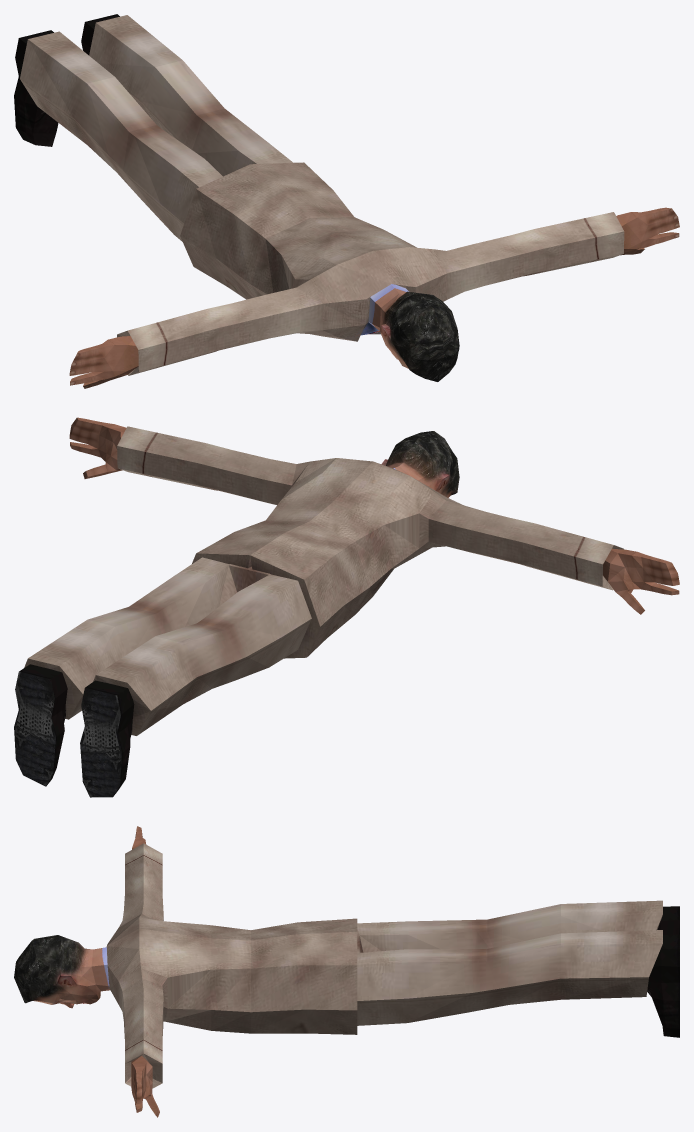
The model's file is civilianmaleC_wtf.obj.
The picture shows the model from 3 angles, top to bottom: view 1: azimuth 30°, elevation 25°; view 2: azimuth 150°, elevation 25°; view 3: azimuth 270°, elevation 25°; orthographic projection. The views are drawn at different scales.
Visible parts, largest first — view 1: group2; view 2: group2; view 3: group2.
Part boxes in pixels (<box>): group2: <box>14,14,679,388</box>; group2: <box>14,417,679,797</box>; group2: <box>14,826,679,1117</box>.
Bounding box in the file's own units: 619 × 111 × 660.
